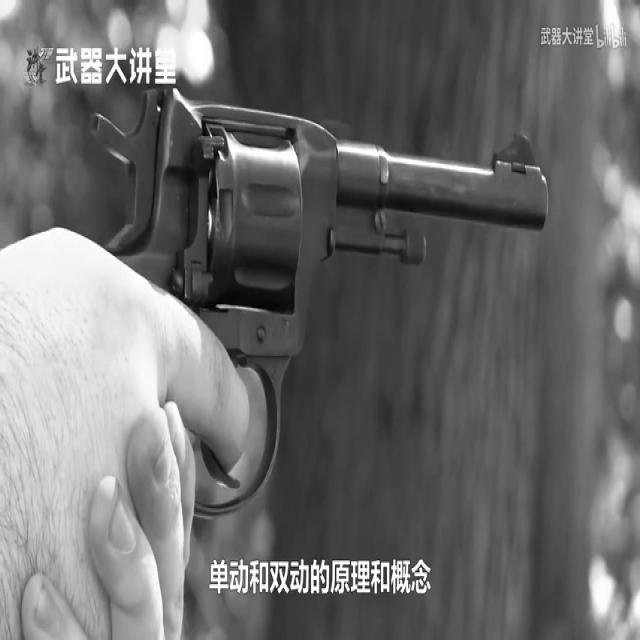Short-Gun: (92, 0, 598, 628)
